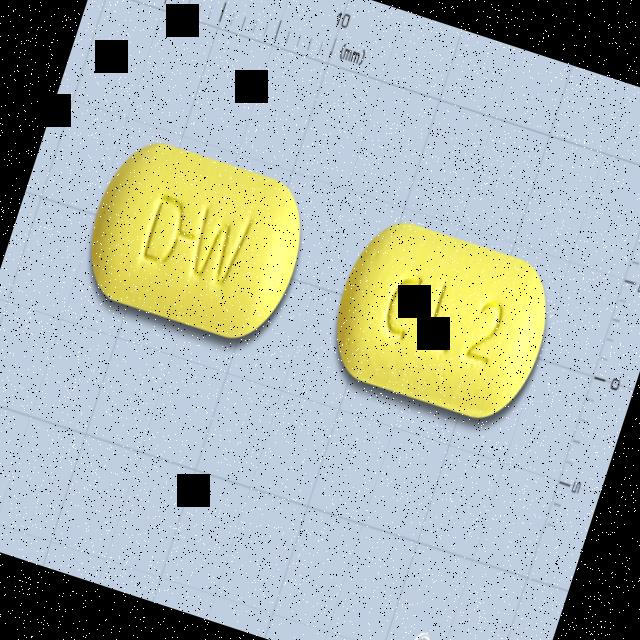Clearmycin - 250mg: (72, 128, 320, 352), (318, 208, 565, 430)
